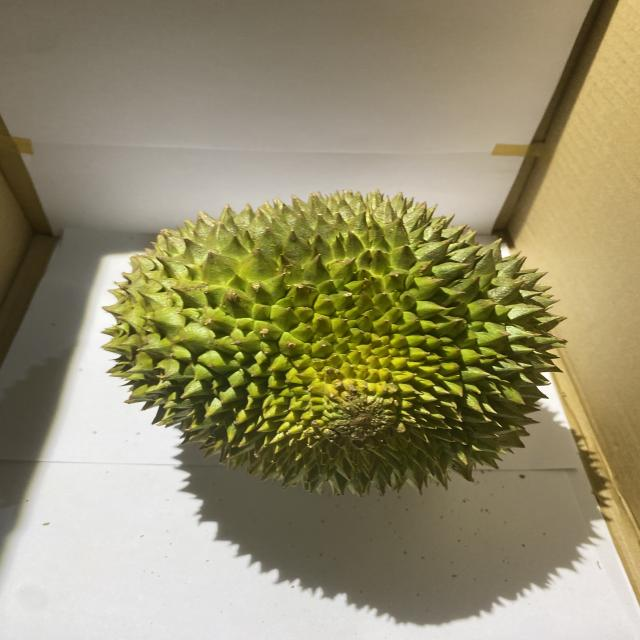immature: (99, 186, 569, 498)
